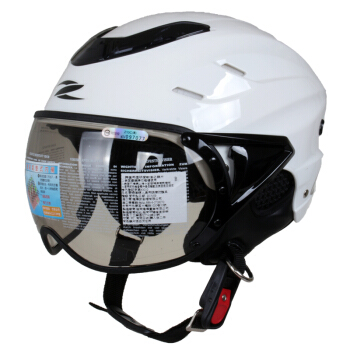helmet: (53, 24, 327, 222)
